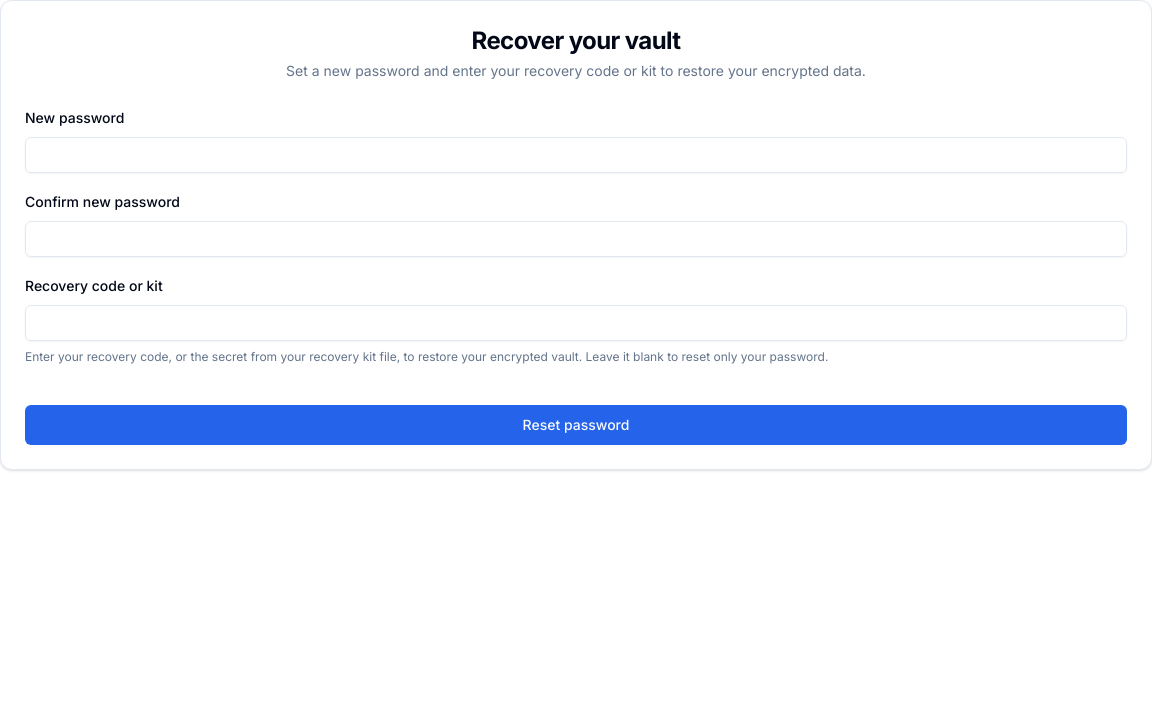
Scenario: the reset page with a passkey that opens the vault › finds the passkeys at submit when the first read failed, and offers them
This screenshot has width=1152, height=720.
Type "NewPassword789!" into the password field labelled "New password" at x=576, y=155, box [25,137,1127,173]
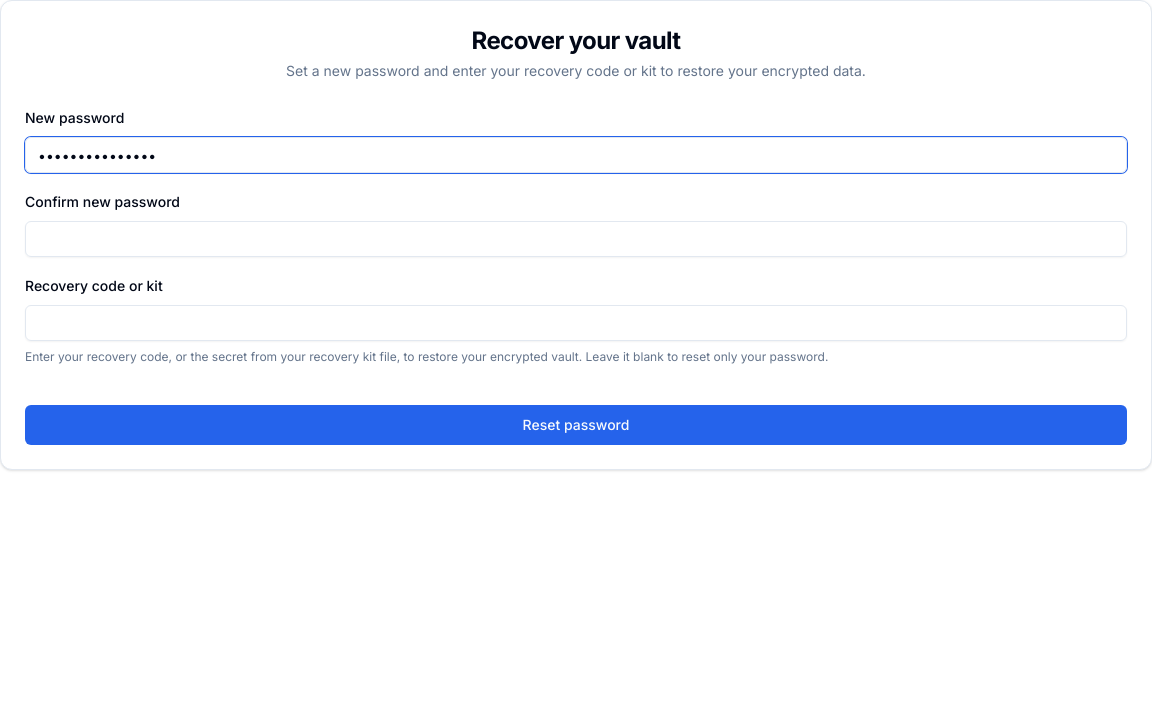
Type "NewPassword789!" into the password field labelled "Confirm new password" at x=576, y=239, box [25,221,1127,257]
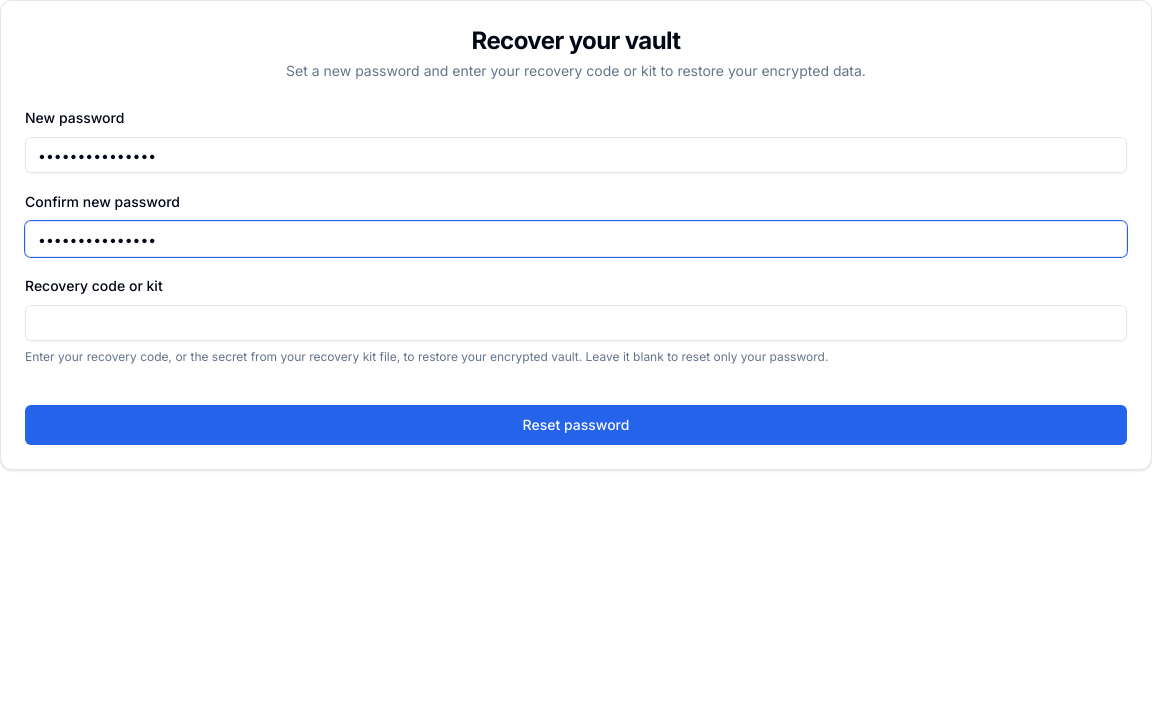
Click the button "Reset password" at x=576, y=425, box [25,405,1127,445]
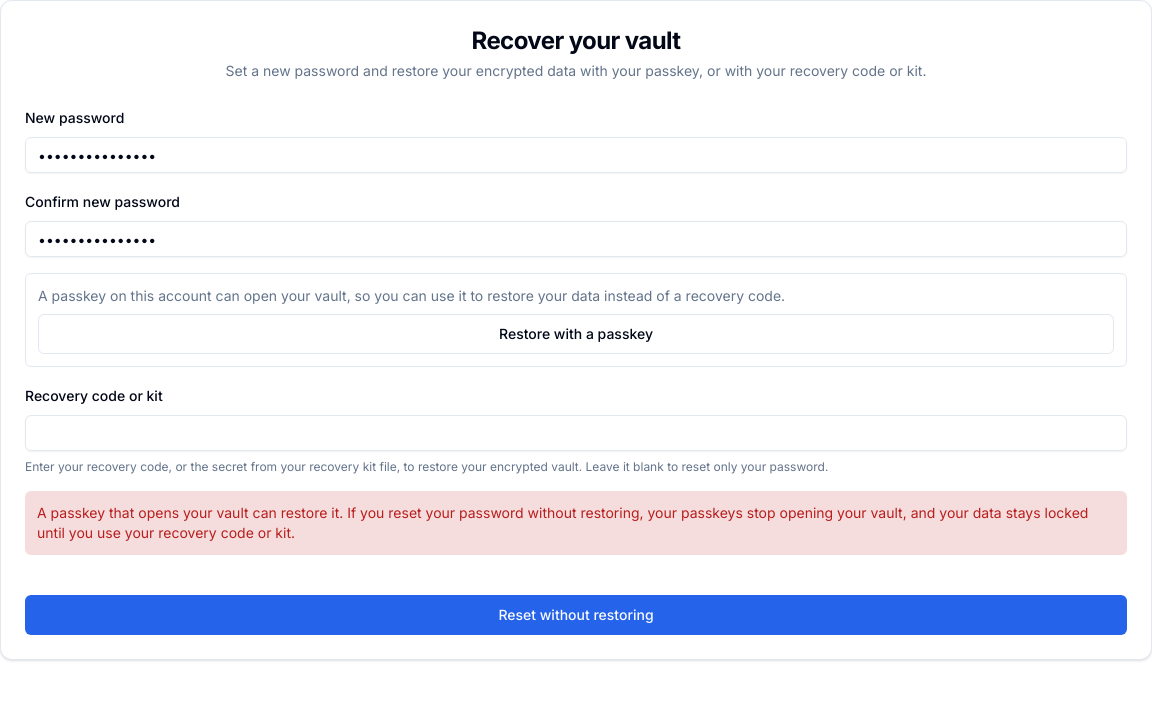
Expected: the message shows "your passkeys stop opening your vault", [37,504,1088,541]
Expected: the button "Restore with a passkey" is shown, [38,314,1114,354]
